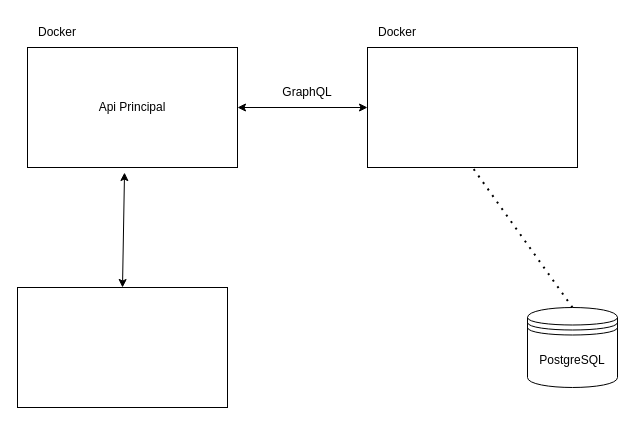
Image size: 635x425. Some labels were removed from this diagram. The shapes that lost their labels are listed below. From the top down, each one's centre as x and y in pixels, then its label:
At (472,107): "Api Usuários".
At (122,347): "Api ViaCep https://viacep.com.br/".
